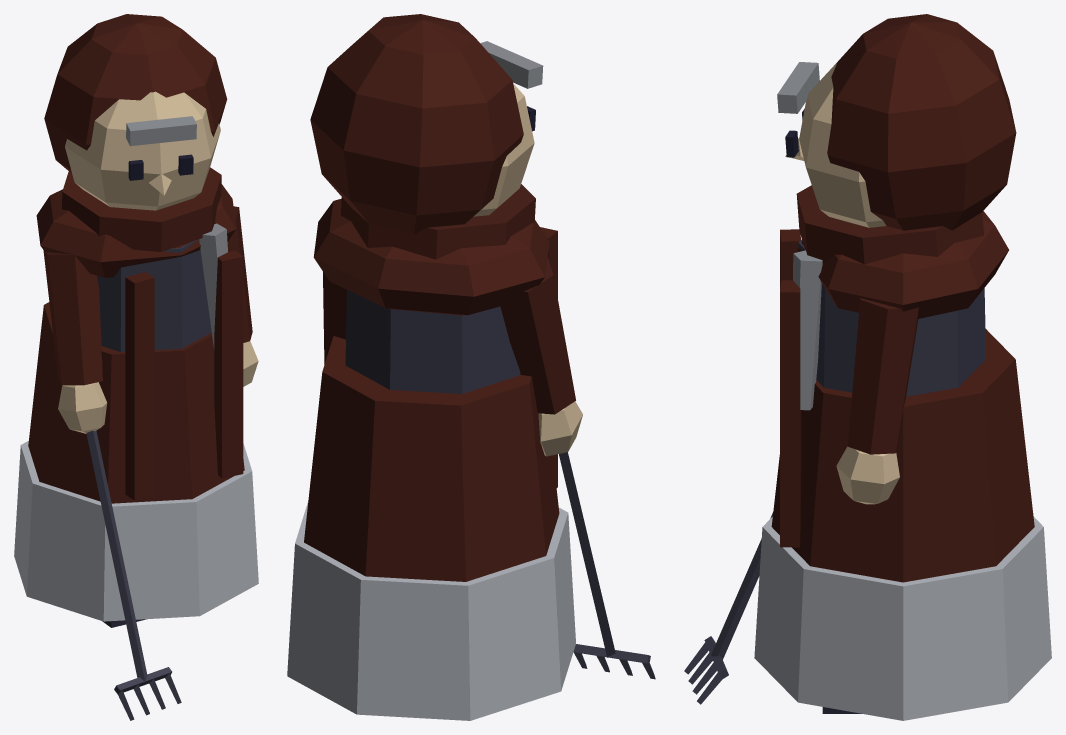
Rendered from ness.glb.
3 renders of one model, left to right at view 1: azimuth 30°, elevation 25°; view 2: azimuth 150°, elevation 25°; view 3: azimuth 270°, elevation 25°, orthographic. The views are drawn at different scales.
Visible parts, largest first — view 1: Torso, Head, ArmR, ArmL; view 2: Torso, Head, ArmR, ArmL; view 3: Torso, Head, ArmL, ArmR.
Boxes of the visible parts, box(x1,y1,x2,y2) form: Torso: box(14, 184, 258, 621); Head: box(44, 14, 227, 251); ArmR: box(43, 250, 181, 720); ArmL: box(227, 206, 258, 386); Torso: box(287, 198, 575, 720); Head: box(310, 14, 543, 259); ArmR: box(500, 256, 655, 679); ArmL: box(323, 272, 346, 364); Torso: box(754, 211, 1051, 720); Head: box(777, 14, 1016, 264); ArmL: box(836, 298, 918, 504); ArmR: box(684, 512, 773, 704).
Size of the model in its own units: 0.74 by 1.94 by 0.915.
